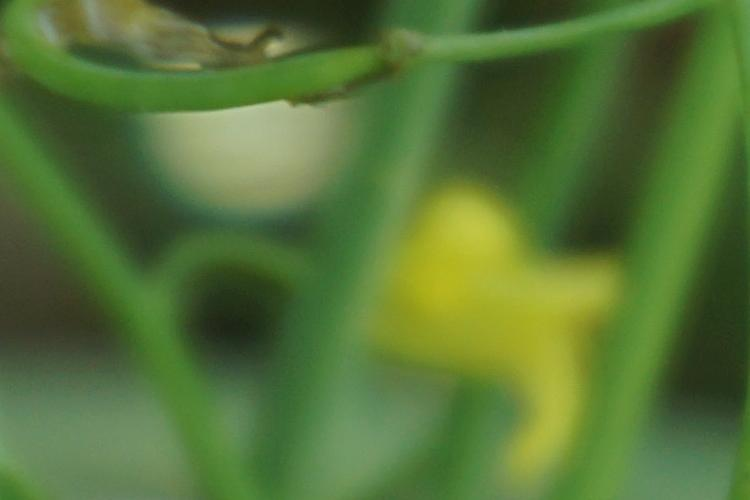pod: (30, 18, 443, 130)
